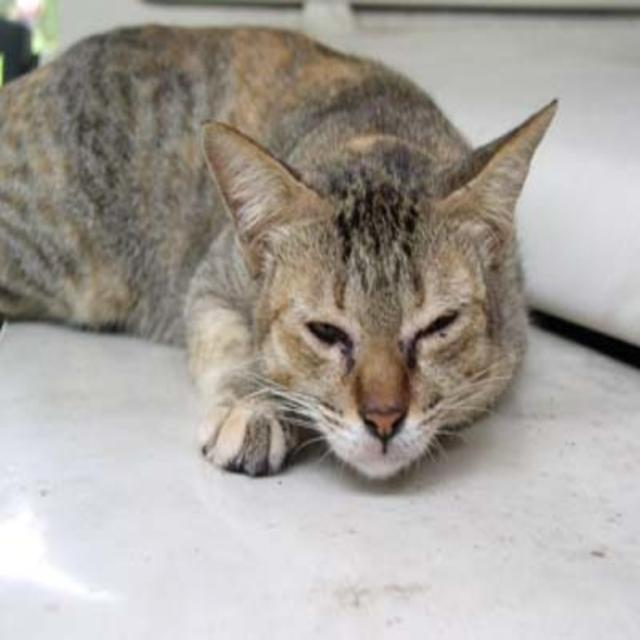Cat: (0, 22, 558, 478)
